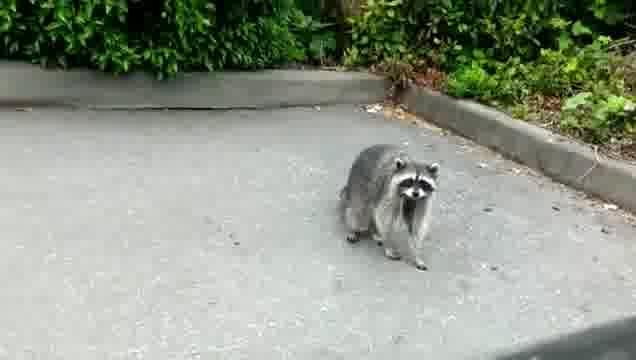raccoon: (339, 140, 441, 275)
